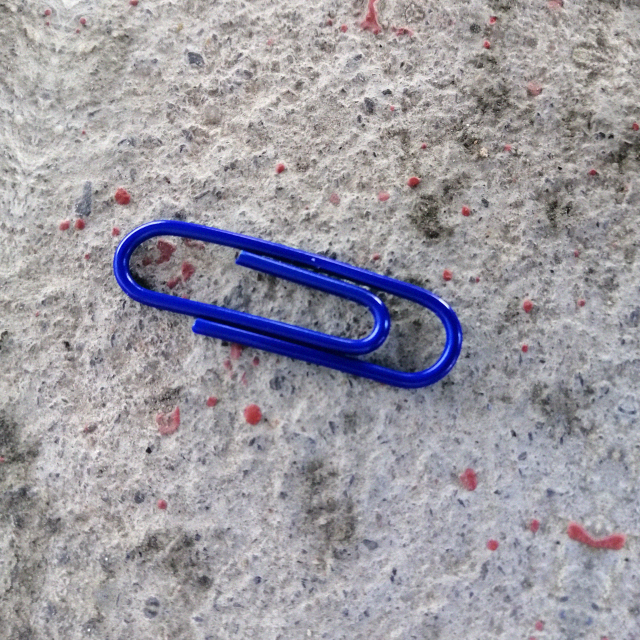pin: (108, 210, 468, 392)
